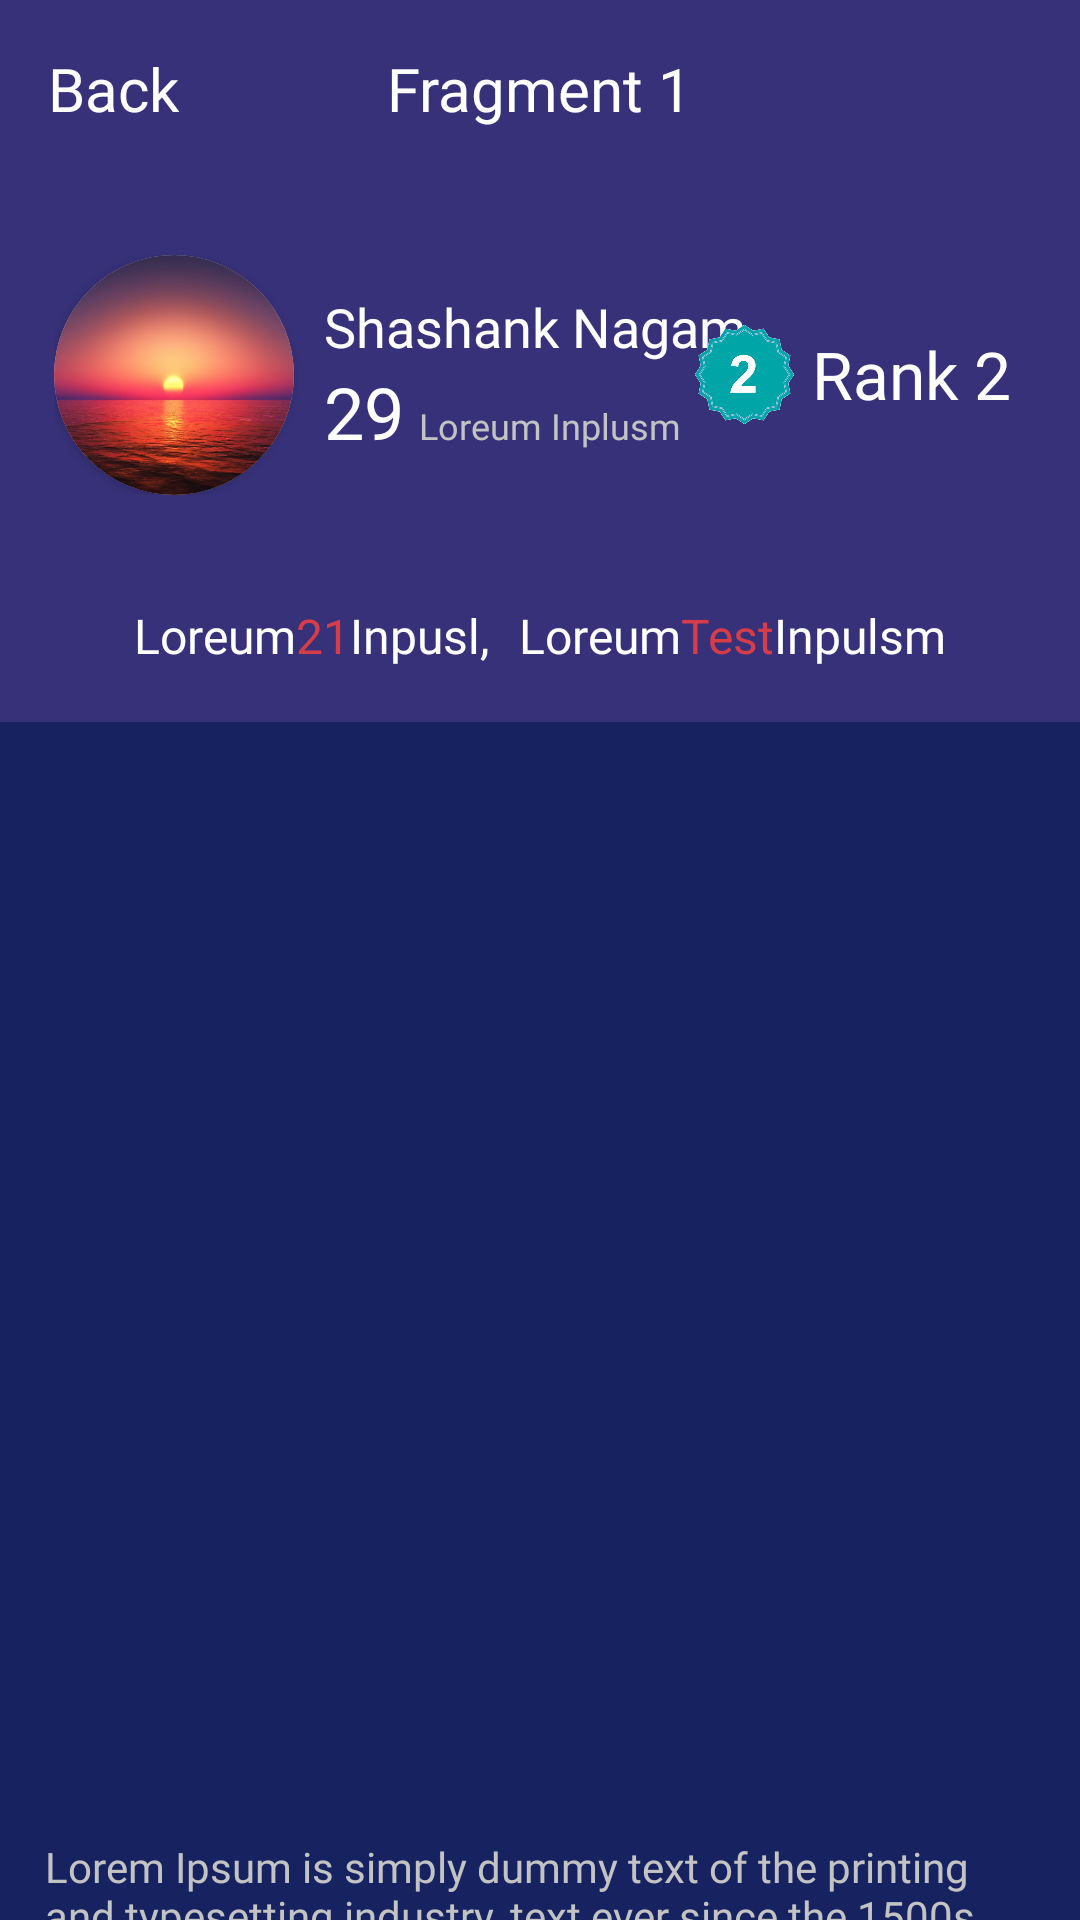

Named icons in this screenshot (1080px×1920px) and their bounding boxes, (x1, y1, x2, y2):
sunset: (54, 255, 294, 495)
win: (695, 322, 794, 424)
